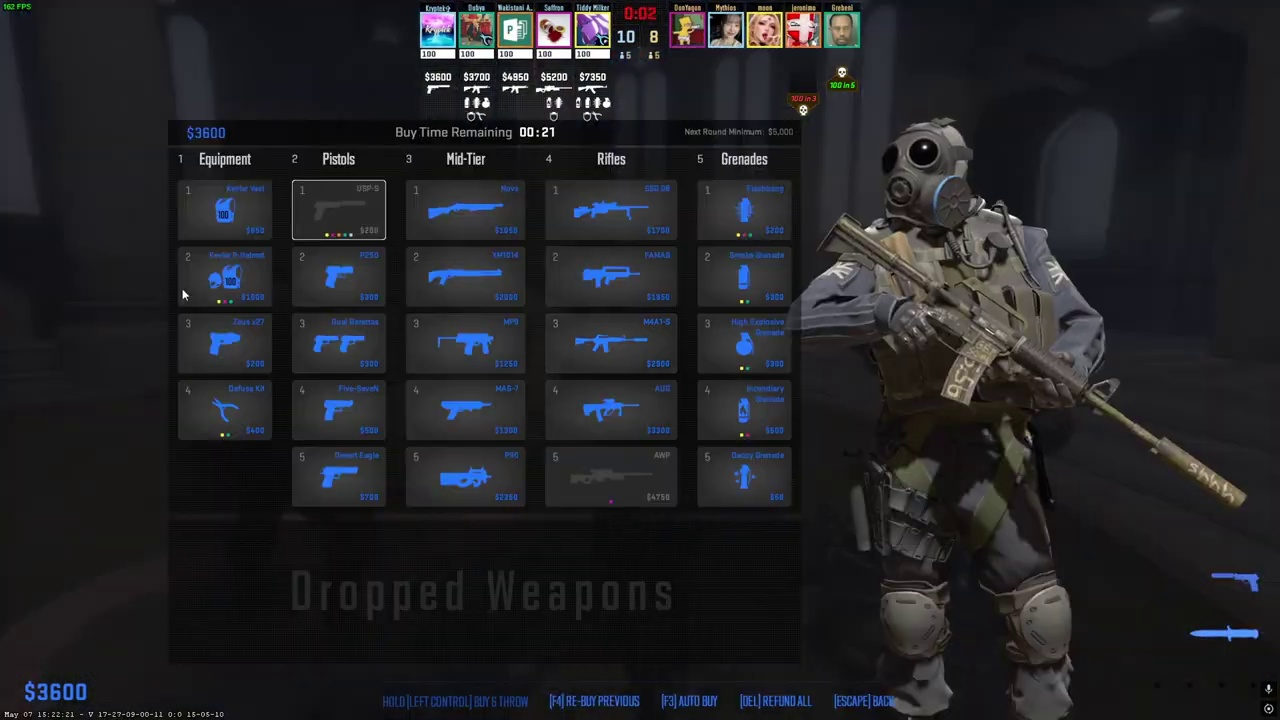CT: (851, 120, 1095, 720)
